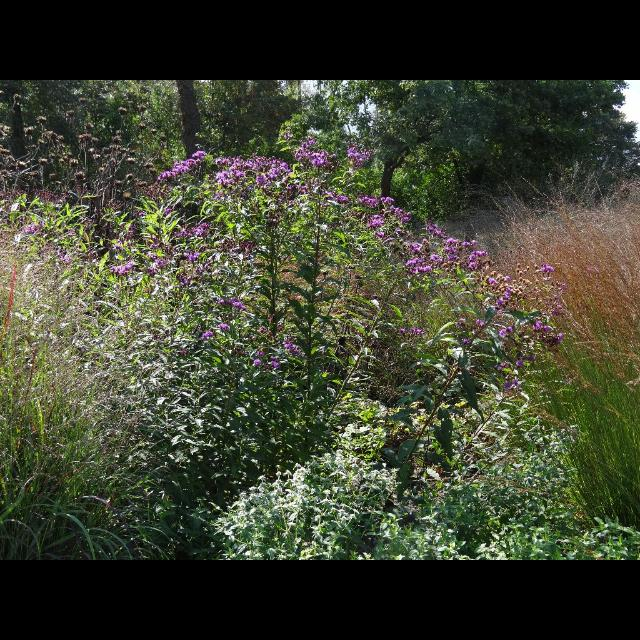Flower: (19, 138, 564, 370), (506, 289, 510, 297)
